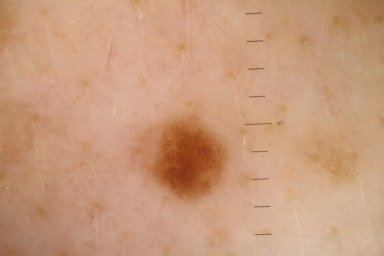nevus: (147, 119, 226, 202)
